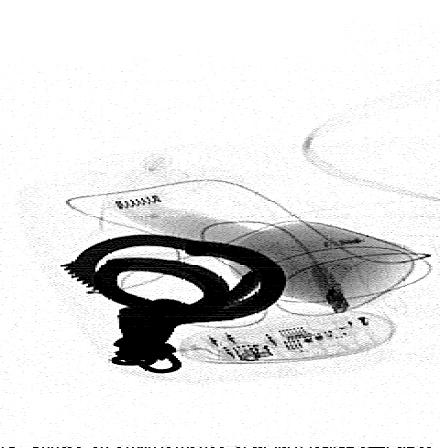HandCuffs: (62, 232, 290, 375)
